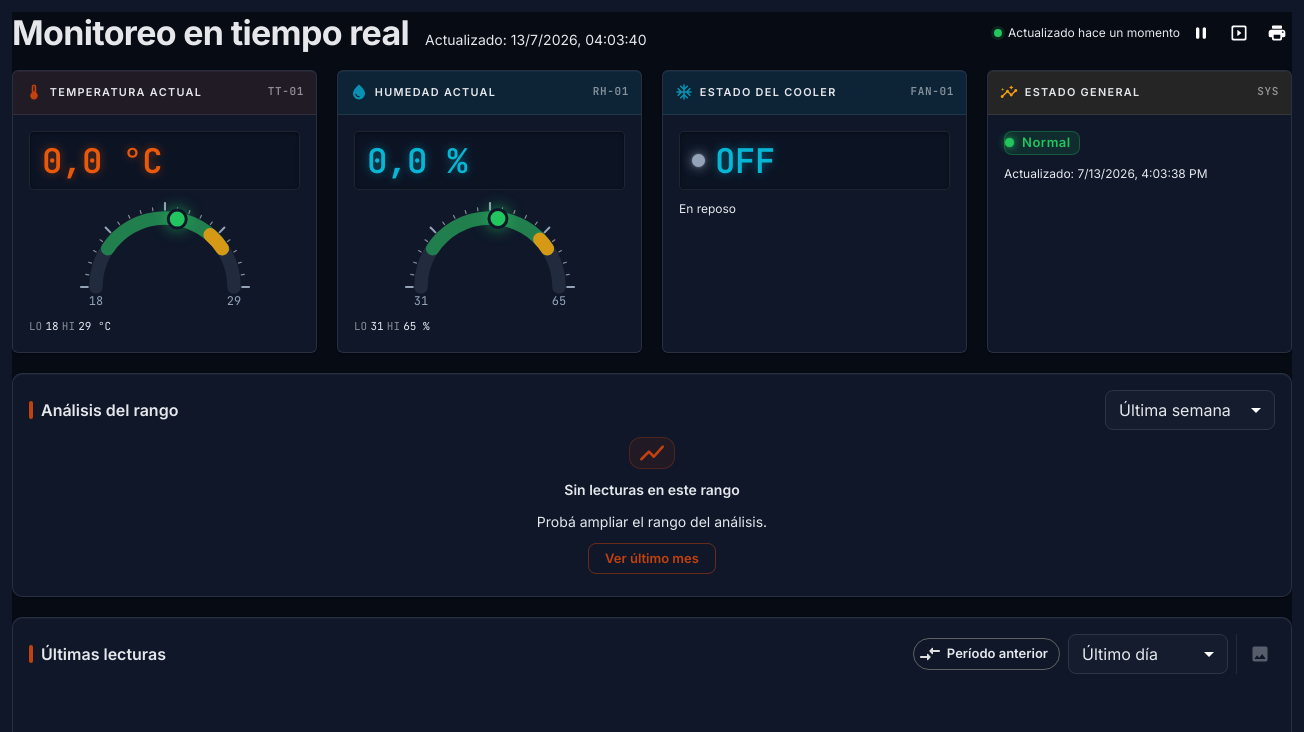
Test: DashboardPage › offers a "Ver último mes" shortcut from an empty range and applies it
This screenshot has width=1304, height=732.
Click the button "Ver último mes".
click(652, 558)  # box [588,543,716,574]
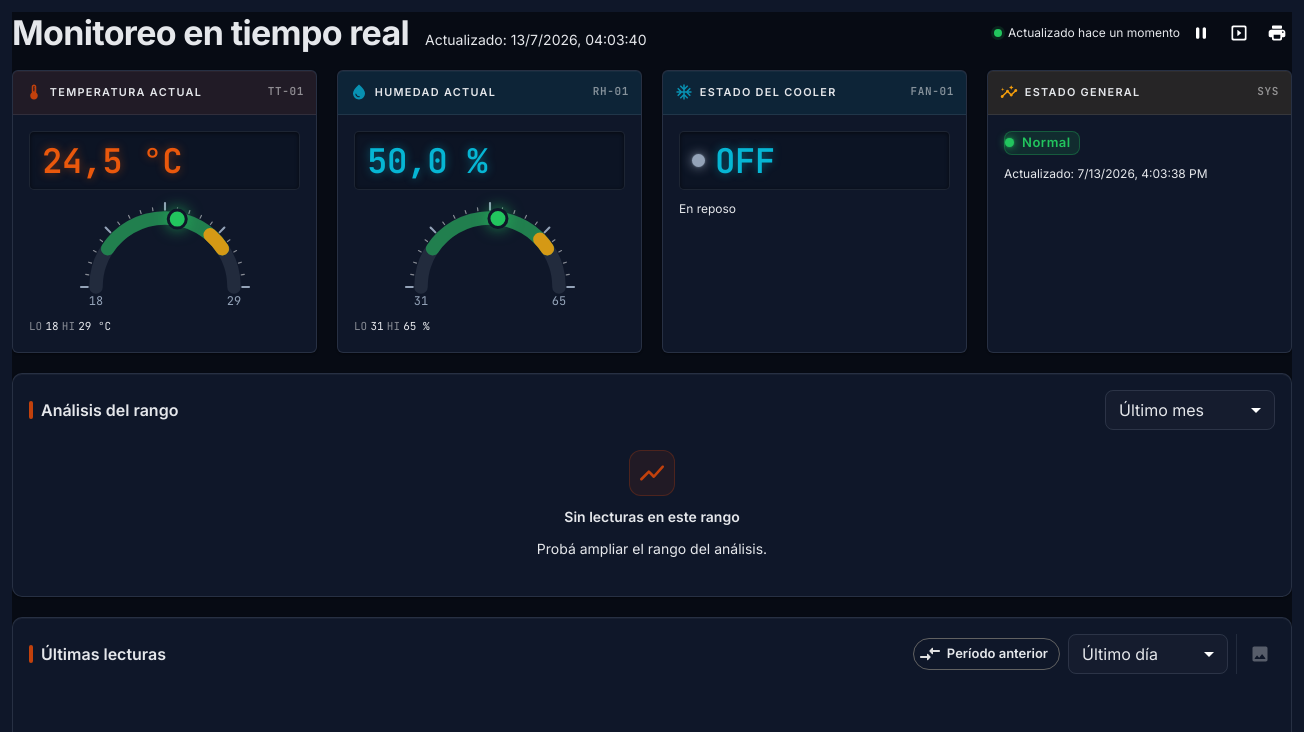
Result: the dropdown "Último mes" is shown at [1119,400,1204,420]
